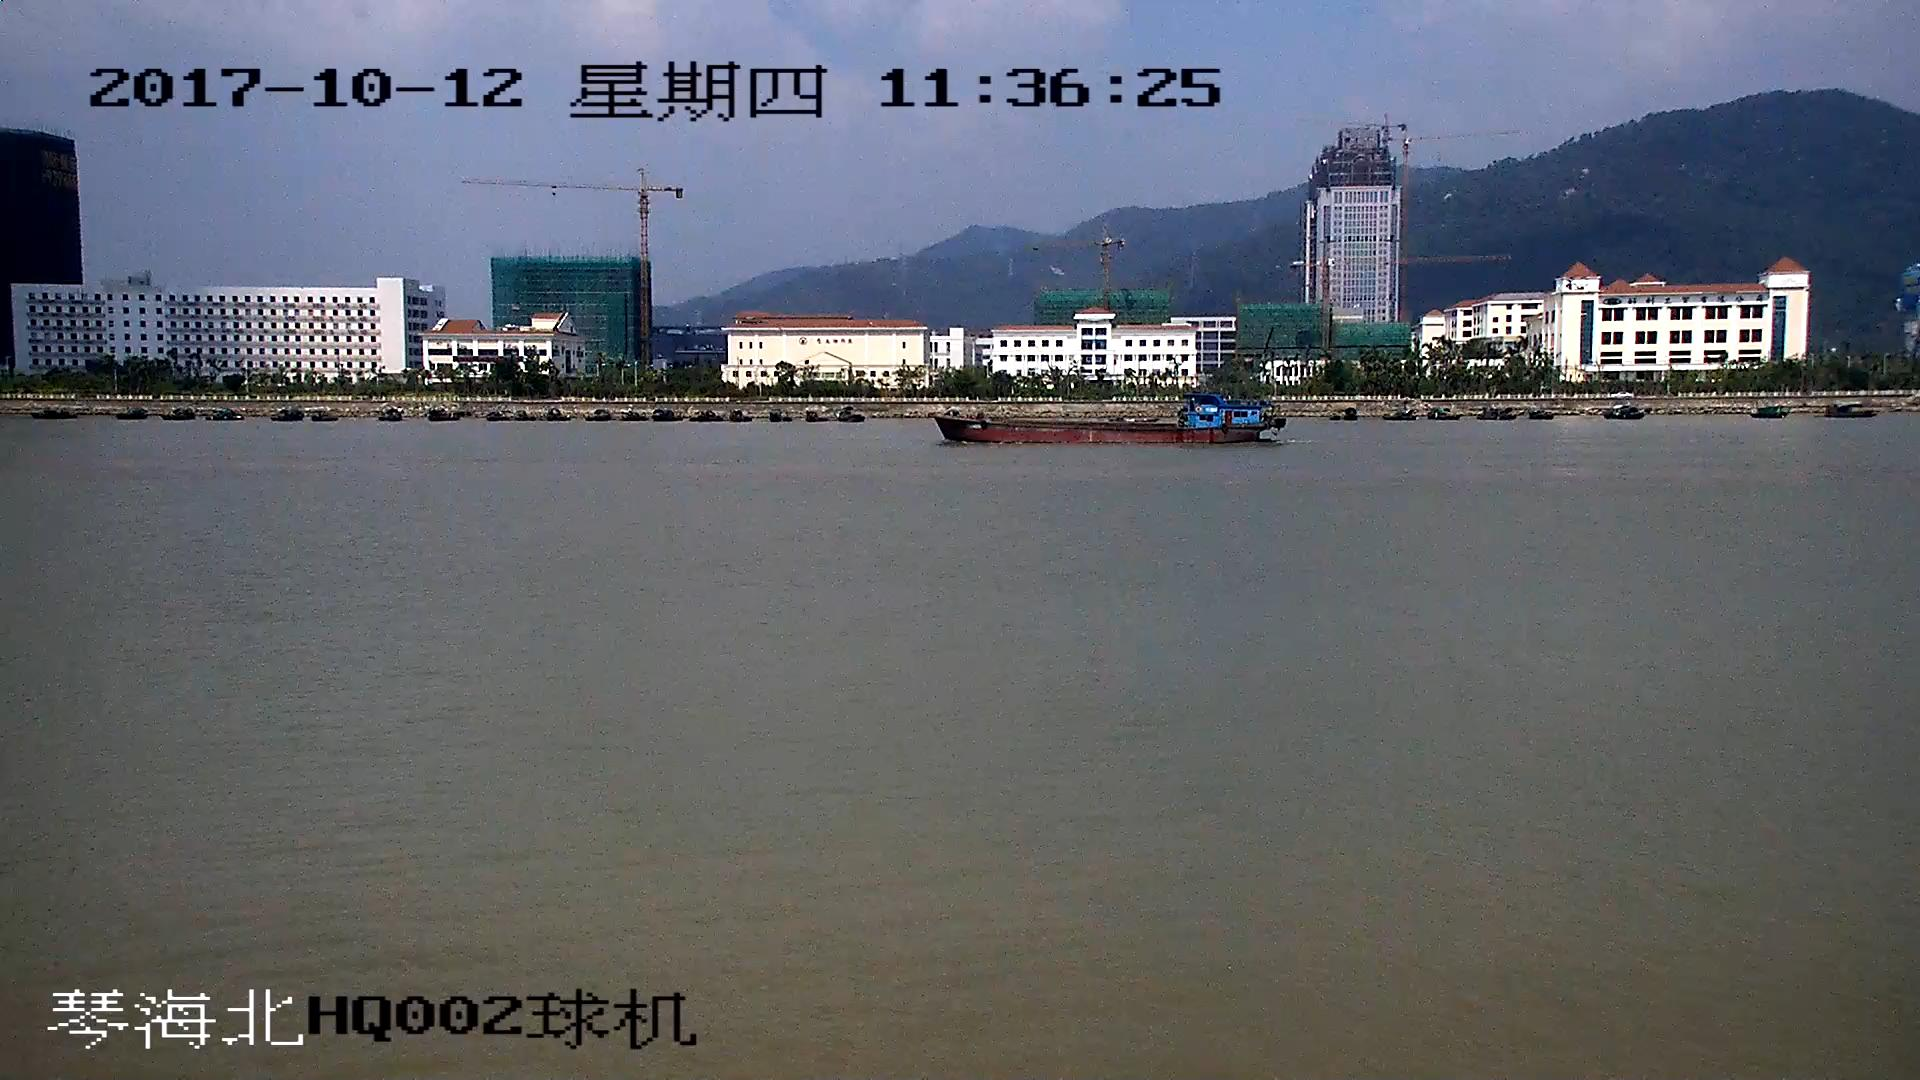bulk cargo carrier: (931, 385, 1283, 445)
